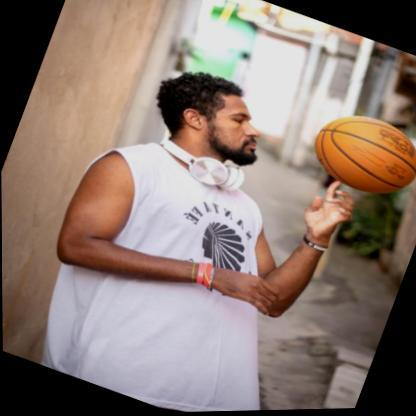basketball: (302, 100, 416, 210)
